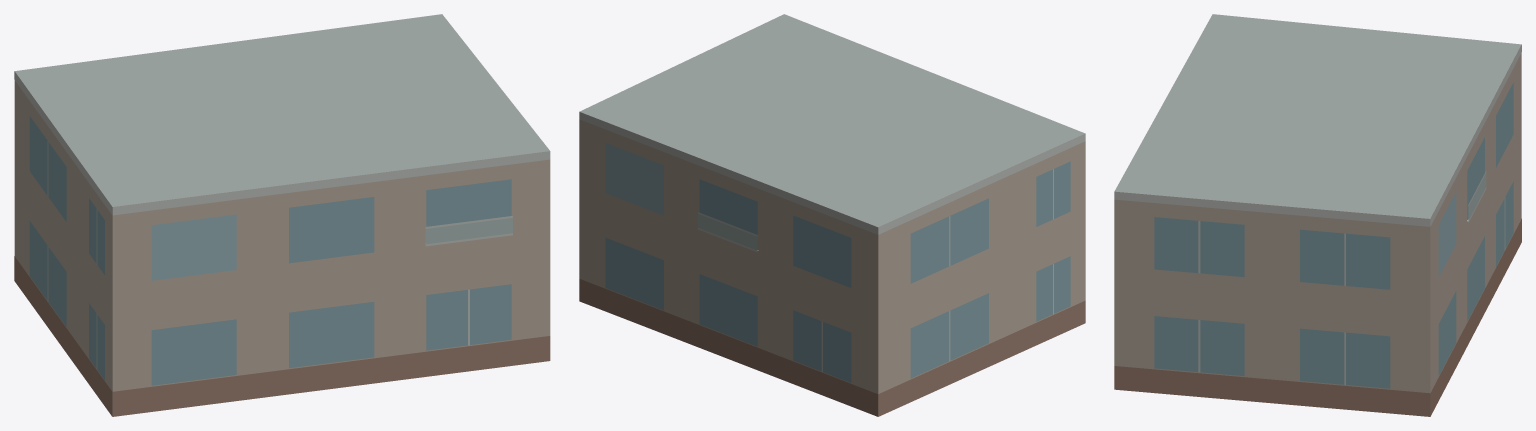
Rendered from survey-upis-32901592.glb.
3 views of the same model, side by side, from view 1: azimuth 30°, elevation 25°; view 2: azimuth 150°, elevation 25°; view 3: azimuth 270°, elevation 25° (orthographic). The views are drawn at different scales.
Visible parts, largest first — view 1: survey-upis-32901592.tmp; view 2: survey-upis-32901592.tmp; view 3: survey-upis-32901592.tmp.
Boxes of the visible parts, x1,y1,x2,y2 form: survey-upis-32901592.tmp: (14, 14, 550, 416); survey-upis-32901592.tmp: (579, 14, 1085, 416); survey-upis-32901592.tmp: (1114, 14, 1521, 416).
Bounding box in the file's own units: 13.55 × 6.1 × 11.39.
